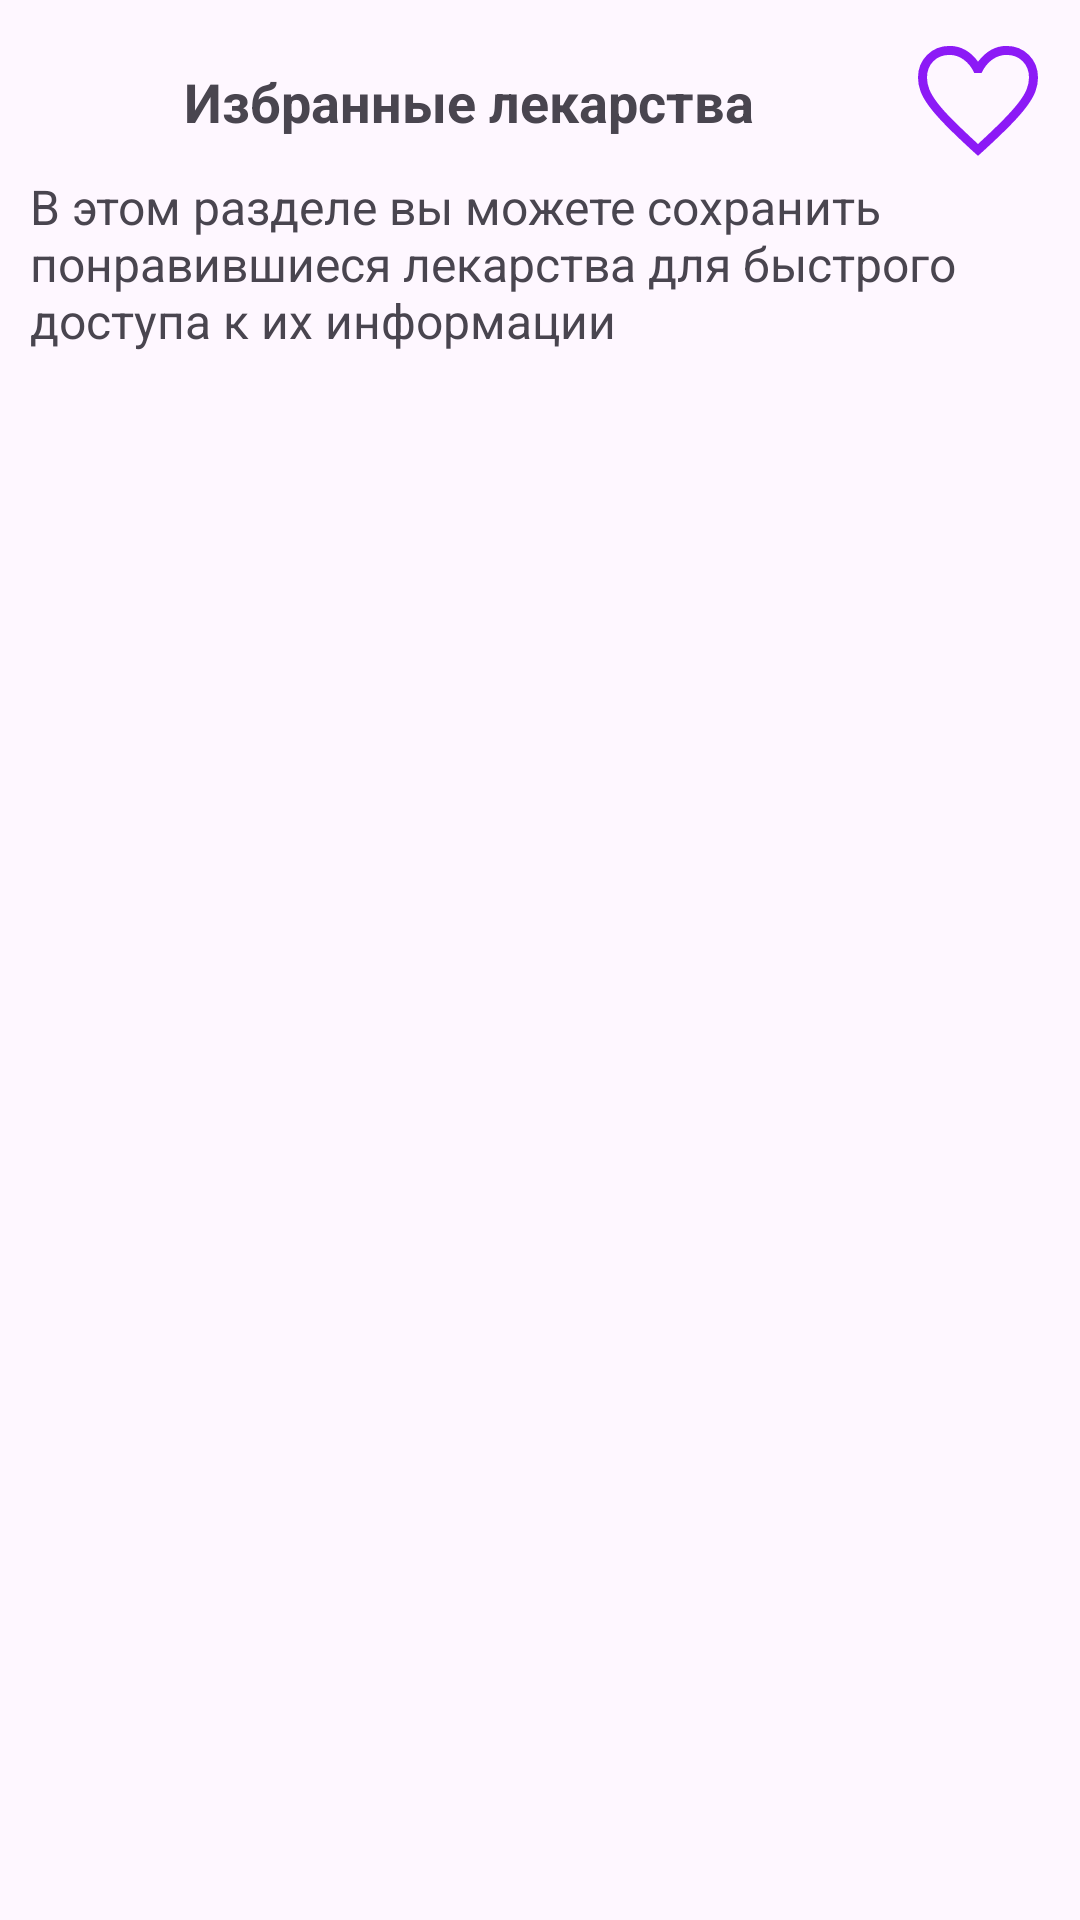

Where to tap for icons on this 1080px×1920px app screen, as (x,y):
favorite: (978,101)
